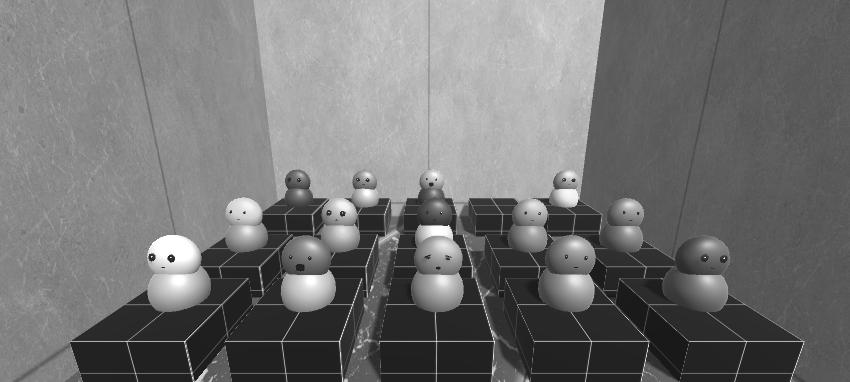blob_atento: (672, 234, 734, 278), (143, 234, 204, 278), (320, 198, 361, 228), (554, 167, 583, 191), (283, 168, 313, 191), (349, 169, 377, 191)
blob_entediado: (410, 234, 469, 278)
blob_normal: (540, 233, 599, 276), (223, 195, 264, 227), (607, 197, 646, 230), (418, 197, 454, 228), (512, 198, 548, 227)
blob_surpreso: (276, 233, 337, 279), (417, 170, 447, 189)
